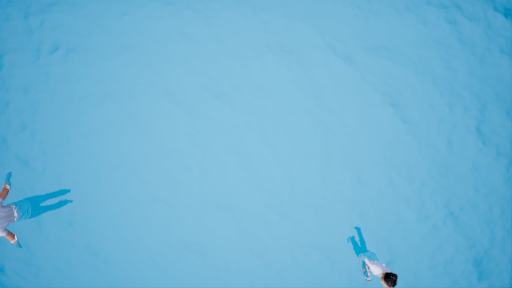person: (1, 167, 79, 242), (338, 217, 415, 288)
